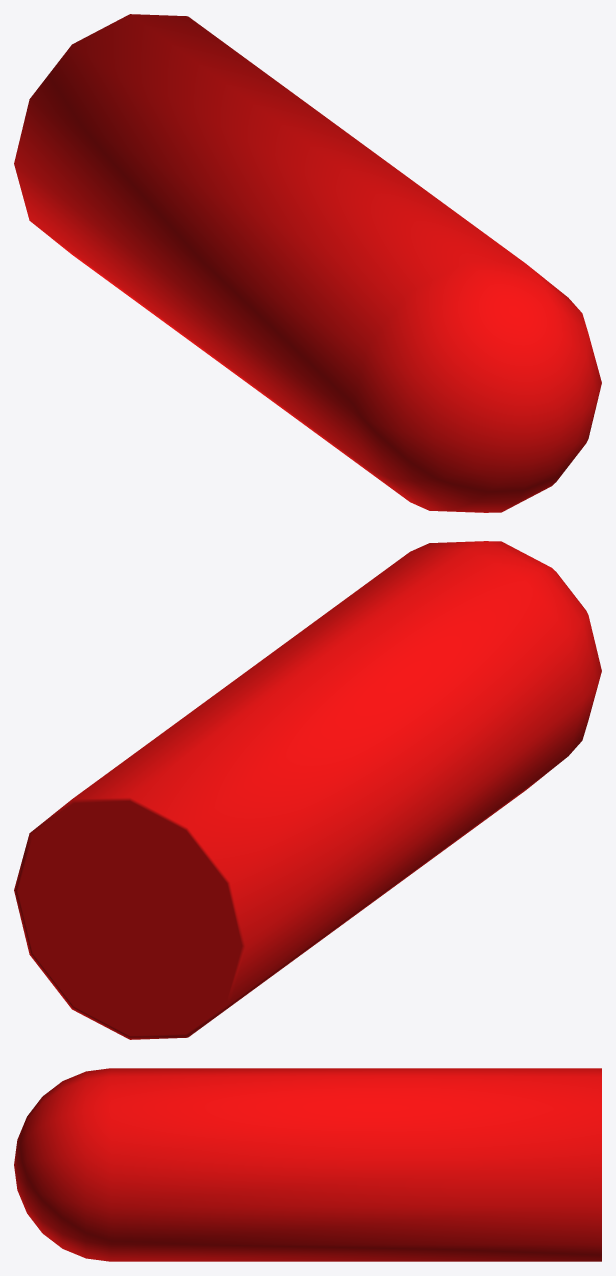
The model's file is Mapa03_TiroA.FBX.
3 views of the same model, one above another, from view 1: azimuth 30°, elevation 25°; view 2: azimuth 150°, elevation 25°; view 3: azimuth 270°, elevation 25° (orthographic). The views are drawn at different scales.
Visible parts, largest first — view 1: TiroA_Mapa03; view 2: TiroA_Mapa03; view 3: TiroA_Mapa03.
Boxes of the visible parts, <box> form: TiroA_Mapa03: <box>14,14,601,512</box>; TiroA_Mapa03: <box>14,541,601,1039</box>; TiroA_Mapa03: <box>14,1068,601,1261</box>.
Bounding box in the file's own units: 8.98 × 8.98 × 27.17.
